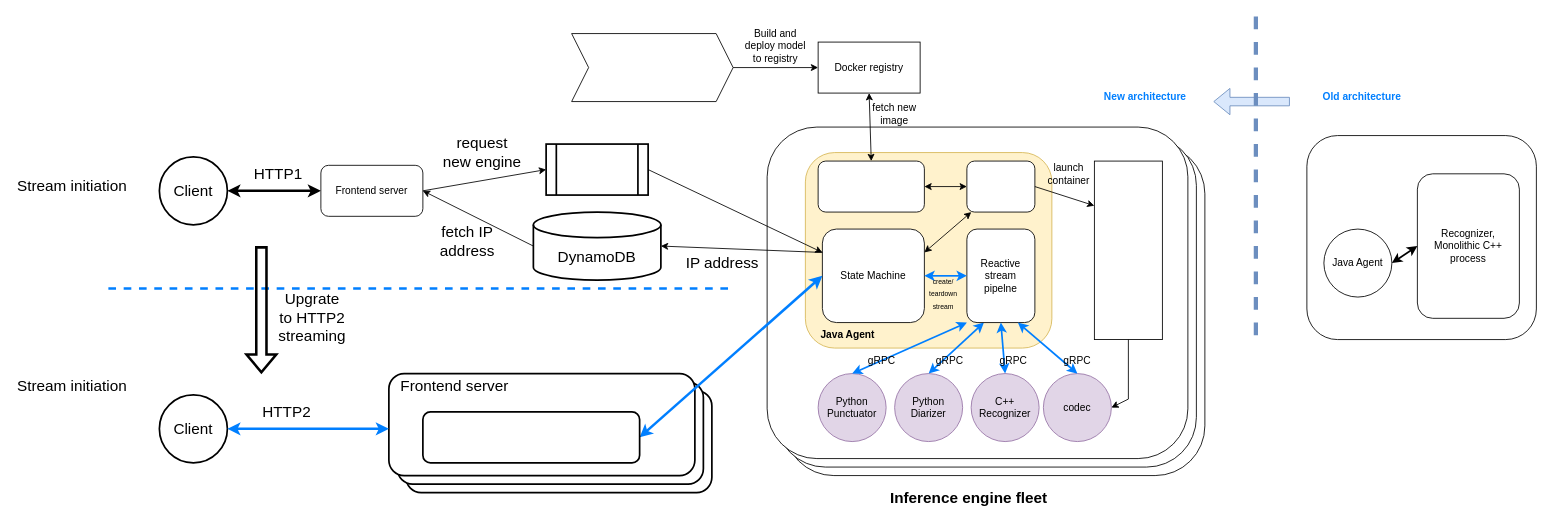
This 1551x527 diagram has some shape labels left out. The box of each missing label's shape, as (x1, y1, x2, y2) in pixels:
CI/CD pipeline: (571, 33, 733, 102)
docker: (1094, 160, 1162, 340)
Docker client: (966, 160, 1035, 212)
Model downloader daemon: (817, 160, 924, 212)
Reactive streaming Pipeline: (422, 411, 640, 463)
SQS: (545, 143, 649, 196)
